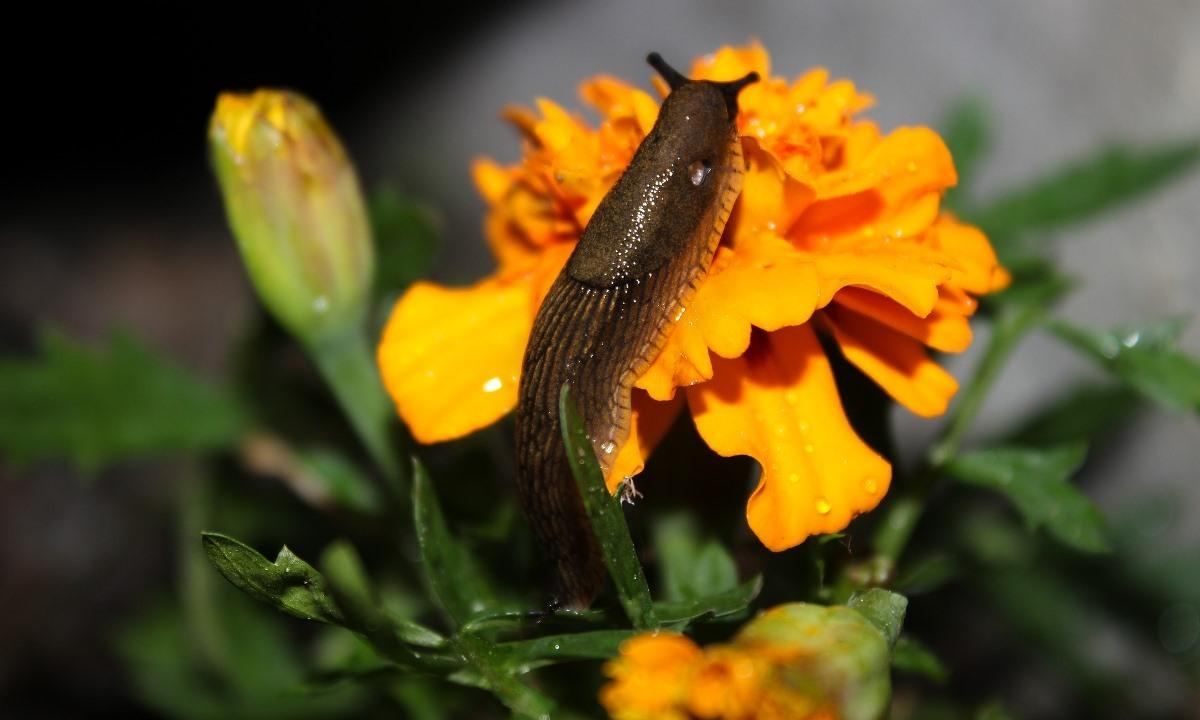slug: (522, 65, 764, 579)
